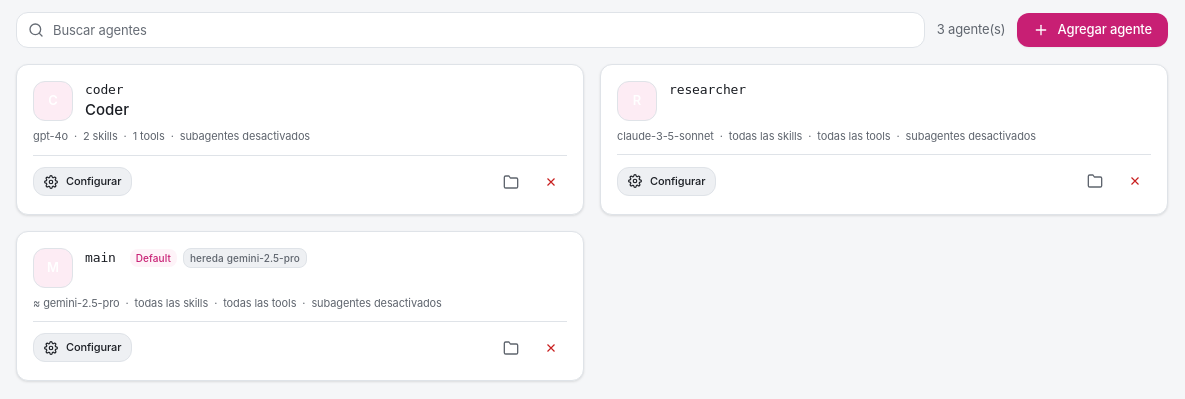
Test: AgentCard — inline remove › Cancel closes the confirmation without touching the draft
The image size is (1185, 399).
Click the 2nd button named "Eliminar" at (1135, 181), box [1128,174,1142,188]
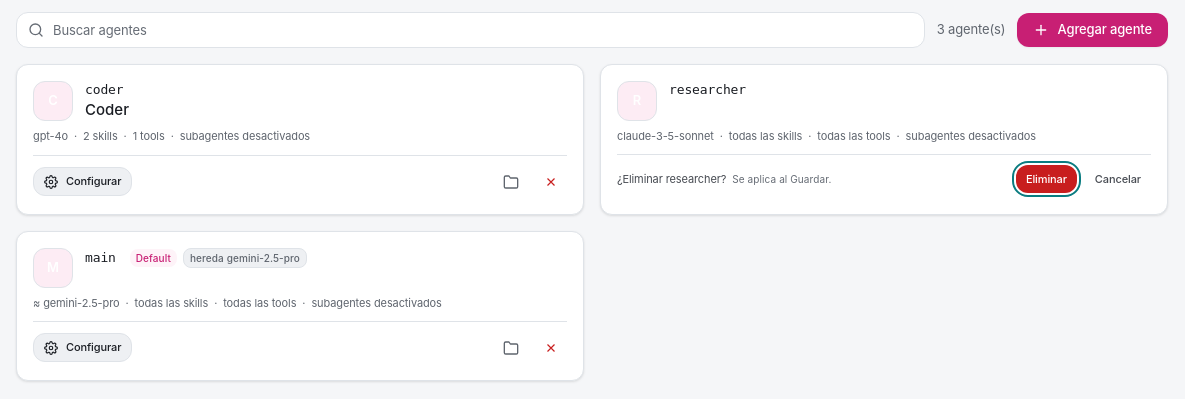
Click the button with test id "agent-cancel-remove" at (1118, 179), box [1085,165,1151,193]
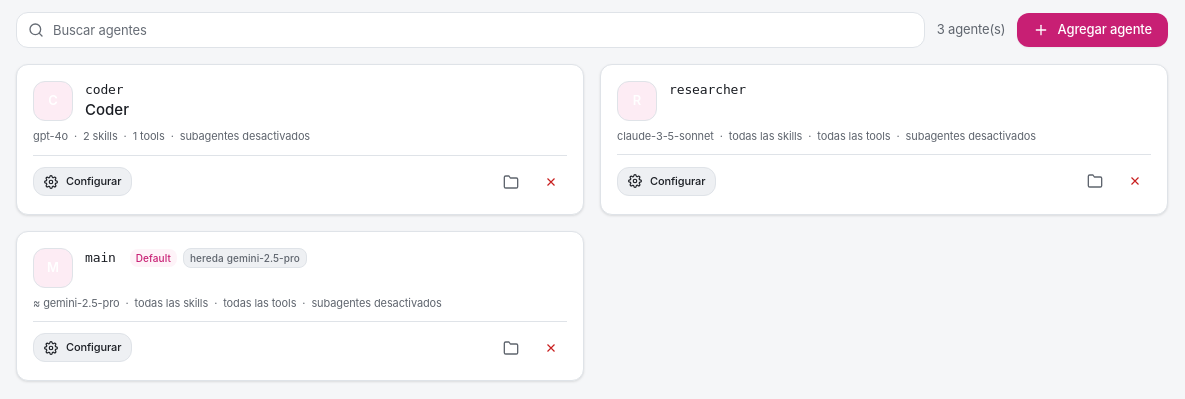
Now the button with test id "agent-confirm-remove" is gone
